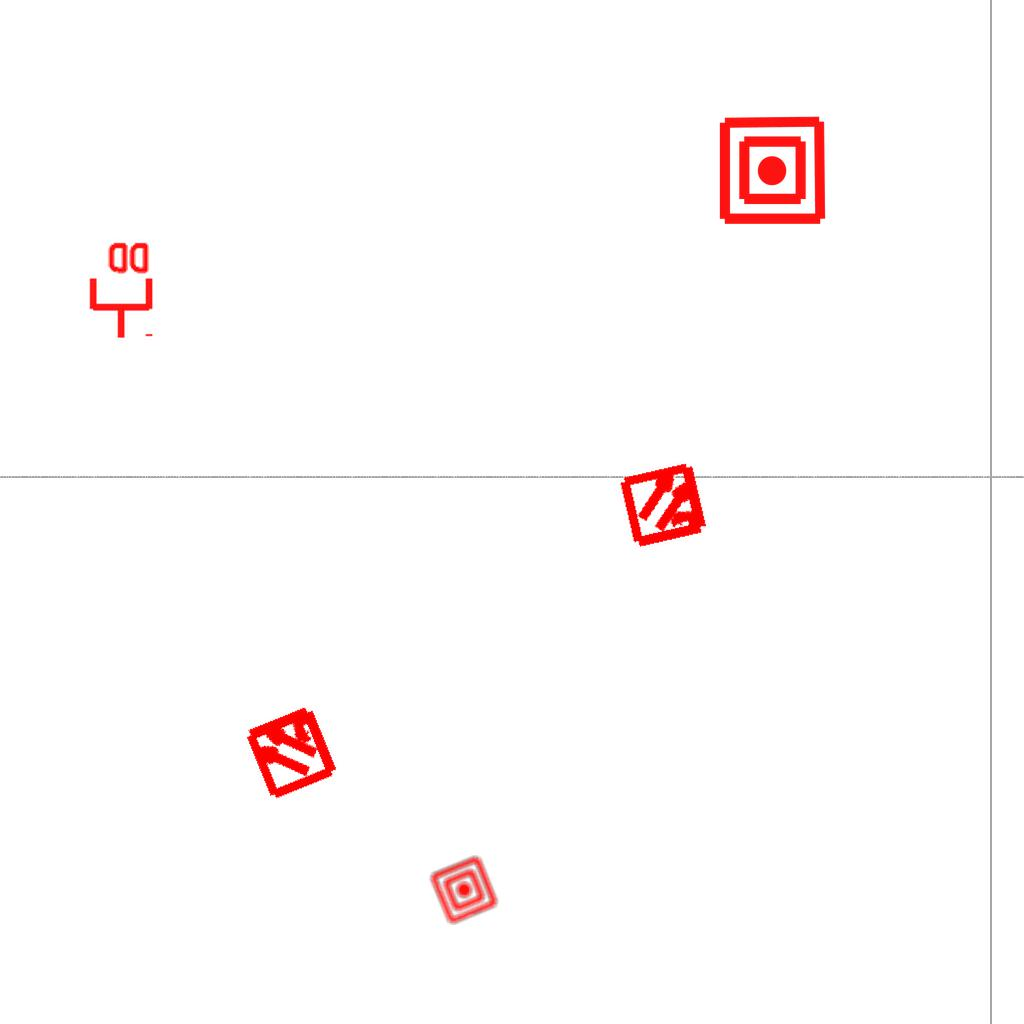Datenanschluss_zweifach: (85, 238, 154, 341)
NAM-Nichtautomatischer_Melder: (716, 114, 829, 227), (427, 853, 501, 927)
OT_Multisensormelder_(Kombination_RMO_WMD): (216, 676, 365, 825), (597, 436, 734, 573)
